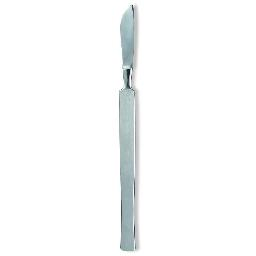scalpel: (117, 2, 139, 252)
